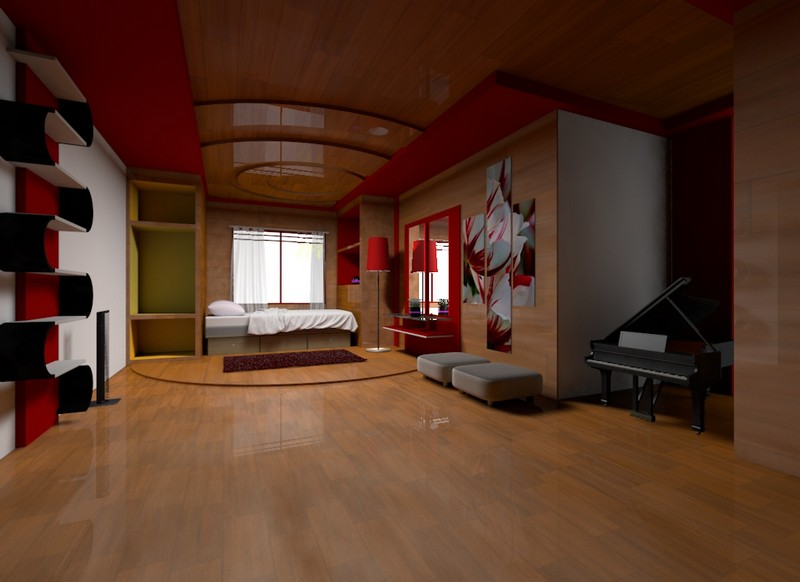bed: (203, 297, 362, 355)
lamp: (362, 232, 399, 360)
